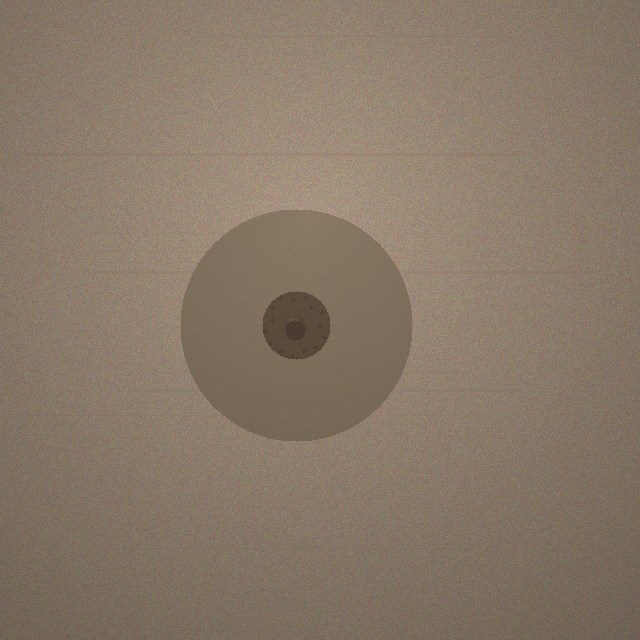cold_weld: (180, 209, 412, 441)
